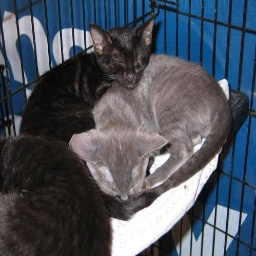cat: (0, 13, 228, 256)
